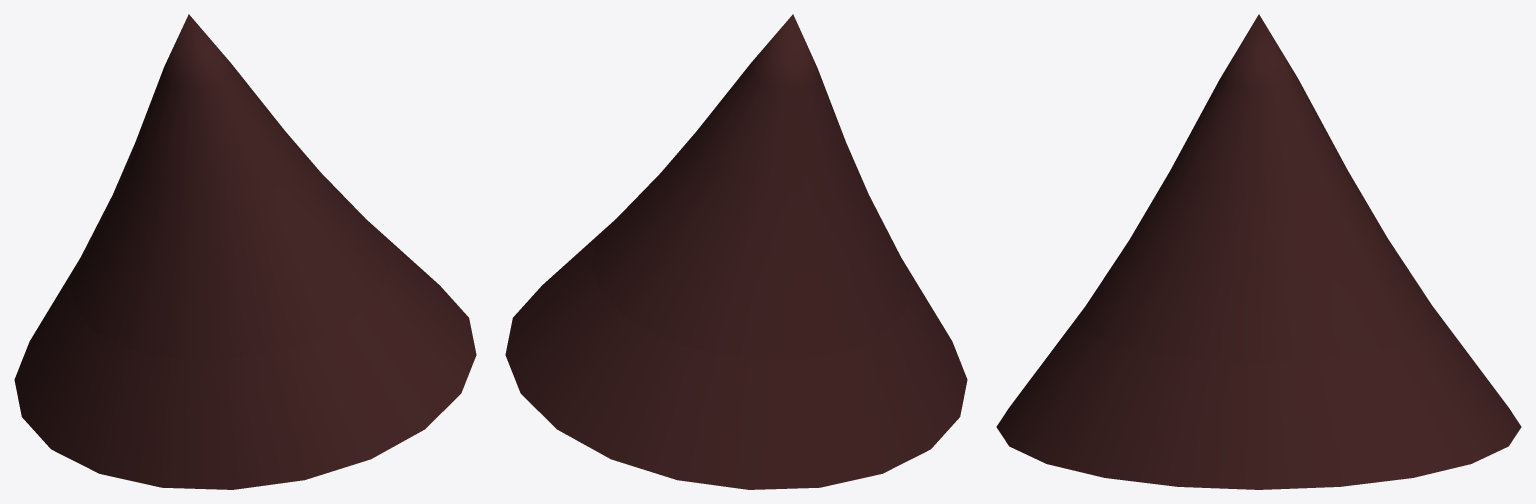
File: triangle.fbx
3 renders of one model, left to right at view 1: azimuth 30°, elevation 25°; view 2: azimuth 150°, elevation 25°; view 3: azimuth 270°, elevation 25°, orthographic. The views are drawn at different scales.
Parts seen in each view (by area): view 1: pCone9; view 2: pCone9; view 3: pCone9.
Boxes of the visible parts, left/top/right/bottom form: pCone9: left=14, top=14, right=476, bottom=489; pCone9: left=505, top=14, right=967, bottom=489; pCone9: left=996, top=14, right=1521, bottom=489.
Bounding box in the file's own units: 7.54 × 7.44 × 8.43.
